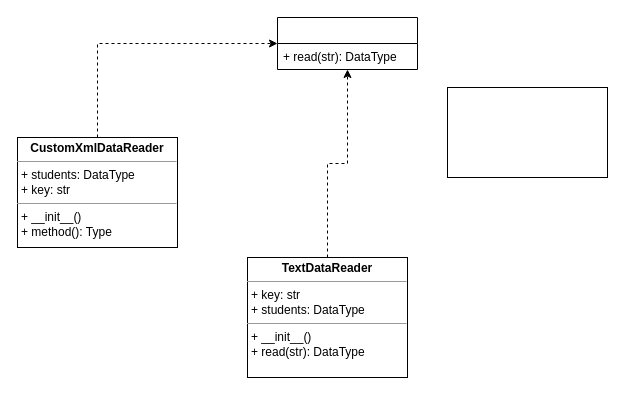
Some shapes in this 625 by 395 pixel diagram are drawn without their labels. The shapes that lost their labels are listed below. From the top down, each one's box as (x1, y1, x2, y2) in pixels, then its label:
(276, 16, 418, 70): DataReaded
(446, 86, 608, 178): CalcRating + field: Type + method(): Type
